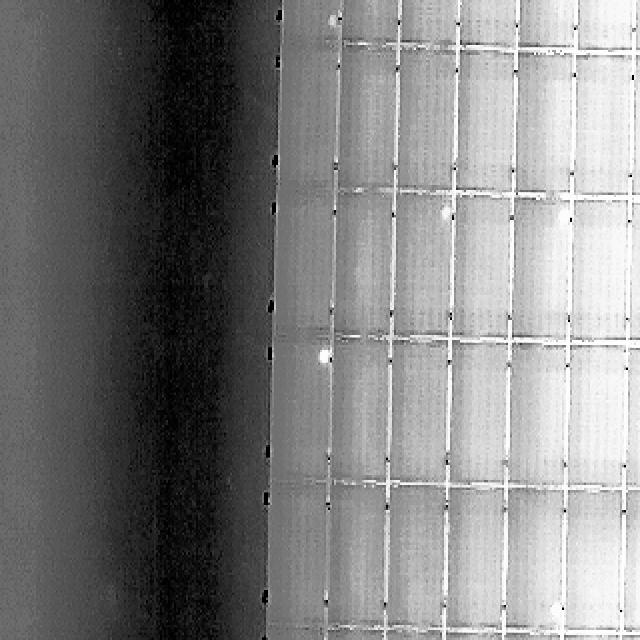Hotspots: (306, 344, 330, 368), (434, 202, 454, 228), (325, 8, 343, 36), (546, 603, 566, 627), (315, 344, 334, 368), (553, 204, 571, 229)
PV-modules: (446, 192, 508, 340), (443, 347, 506, 492), (341, 42, 403, 188), (386, 482, 448, 627), (508, 349, 570, 494), (567, 196, 628, 343), (561, 486, 623, 630), (507, 484, 568, 630), (389, 337, 450, 483), (278, 41, 338, 189), (442, 483, 502, 629), (512, 195, 572, 341), (334, 336, 394, 482), (338, 188, 398, 334), (397, 44, 457, 190), (267, 479, 327, 625), (515, 51, 576, 194), (570, 51, 630, 196), (393, 190, 452, 337), (332, 481, 392, 625), (566, 350, 626, 494), (268, 341, 328, 484), (452, 48, 511, 193), (272, 195, 333, 334), (518, 0, 578, 50), (572, 0, 632, 50), (454, 0, 514, 48), (398, 0, 460, 45), (344, 0, 406, 42), (280, 0, 338, 42), (626, 485, 640, 627), (628, 350, 640, 495), (630, 198, 640, 342), (634, 50, 640, 195), (265, 625, 325, 639), (636, 0, 640, 55)
